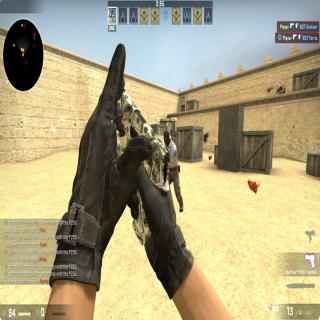T-Body: (160, 128, 183, 210)
T-Head: (163, 130, 173, 148)
